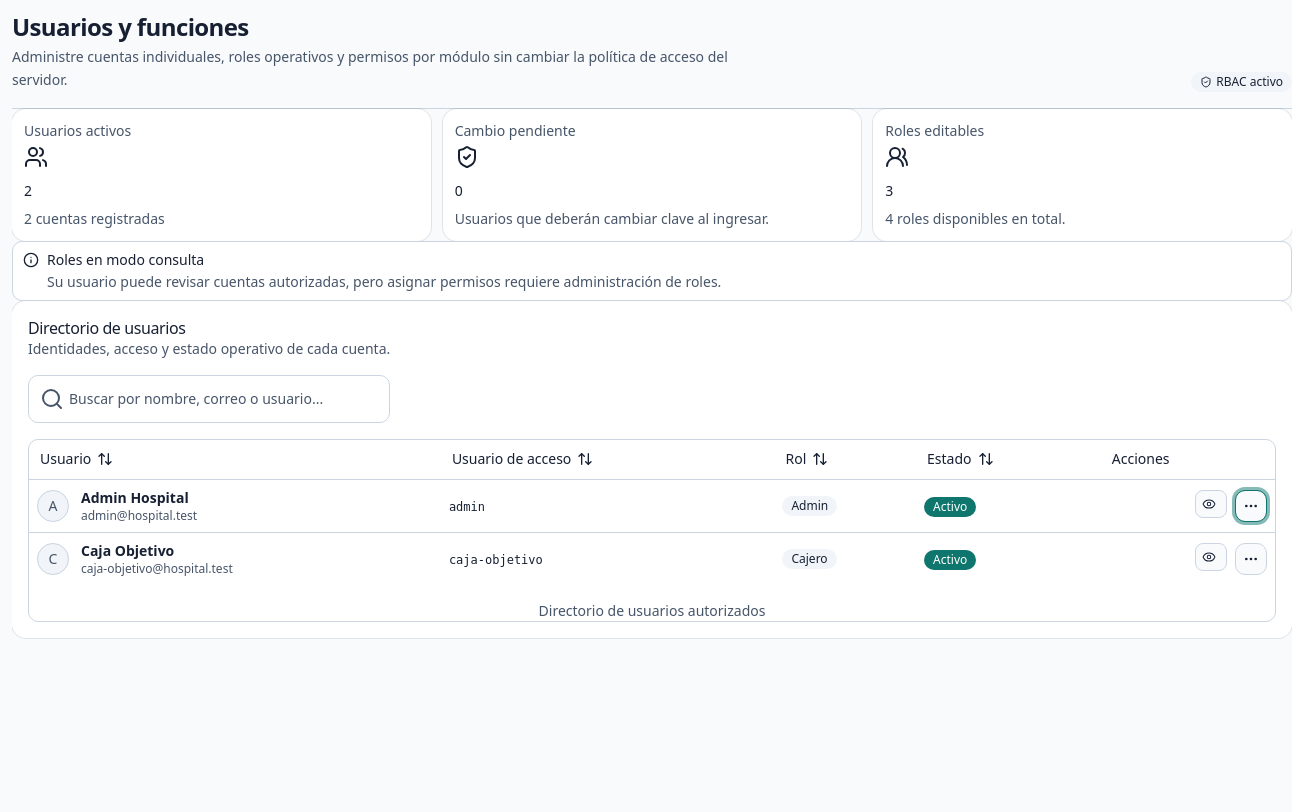
Test case: UsersView › does not expose self password reset or self deactivation actions
This screenshot has width=1292, height=812.
Click the button named "Acciones de usuario Admin Hospital". click: x=1251, y=506
box: [1235,490,1267,522]
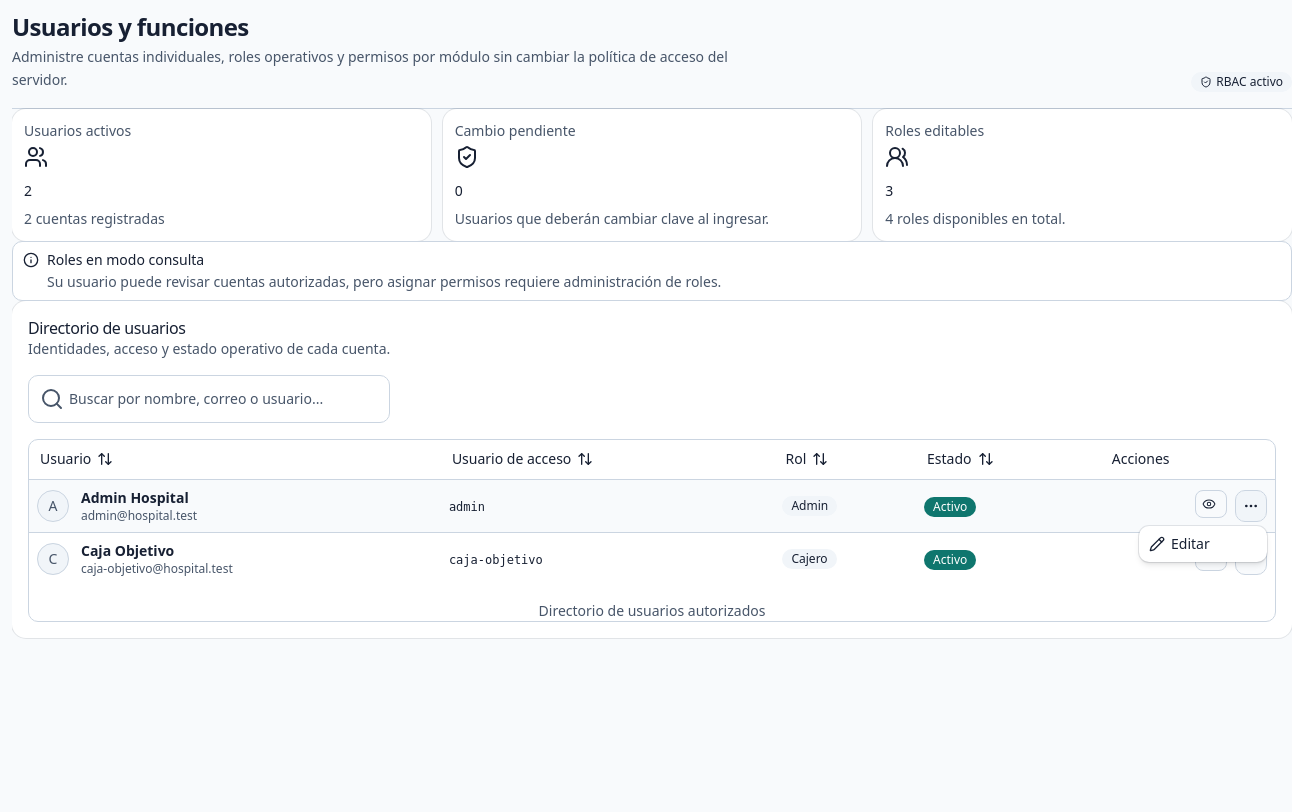
Check: the menu item "restablecer clave" is not shown
Check: the menu item "Editar" is shown, box [1149,534,1210,553]
Press Escape
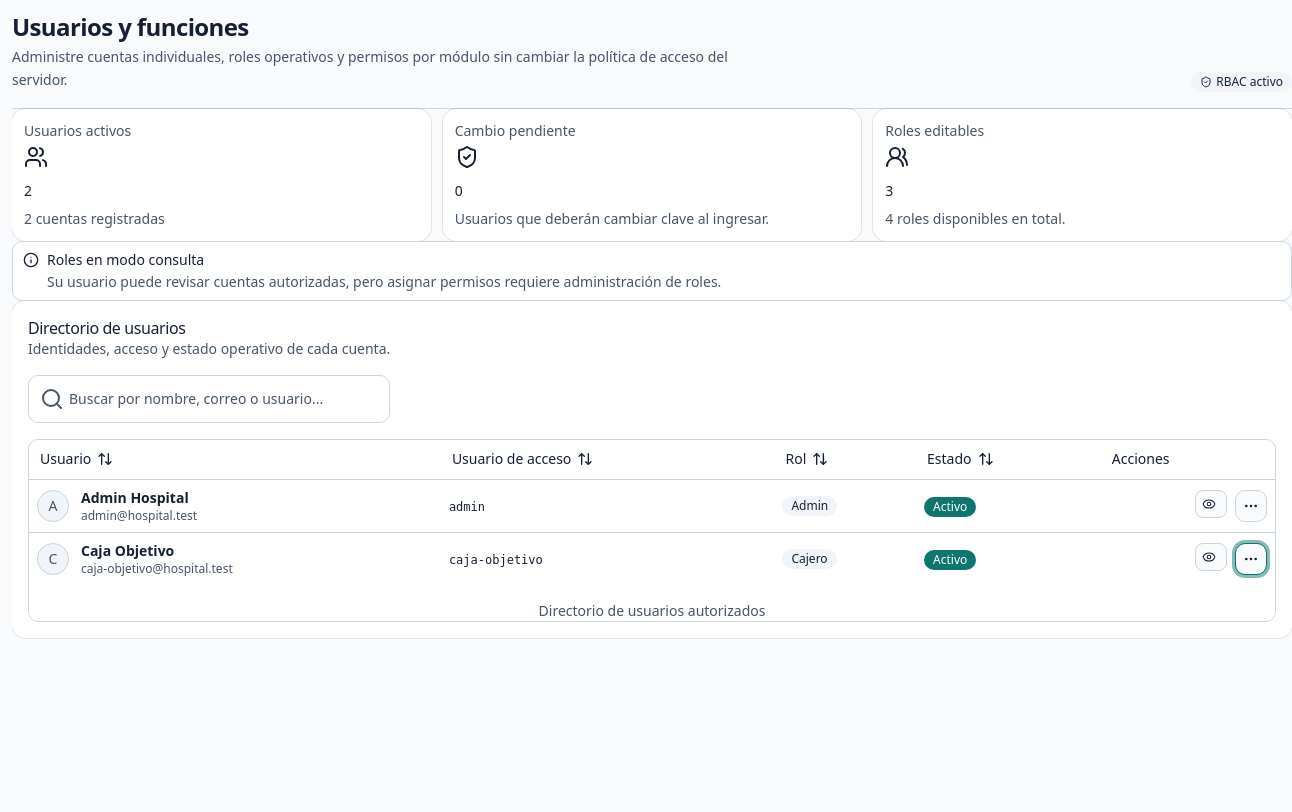
Click the button named "Acciones de usuario Caja Objetivo". click: x=1251, y=559
box: [1235,543,1267,575]
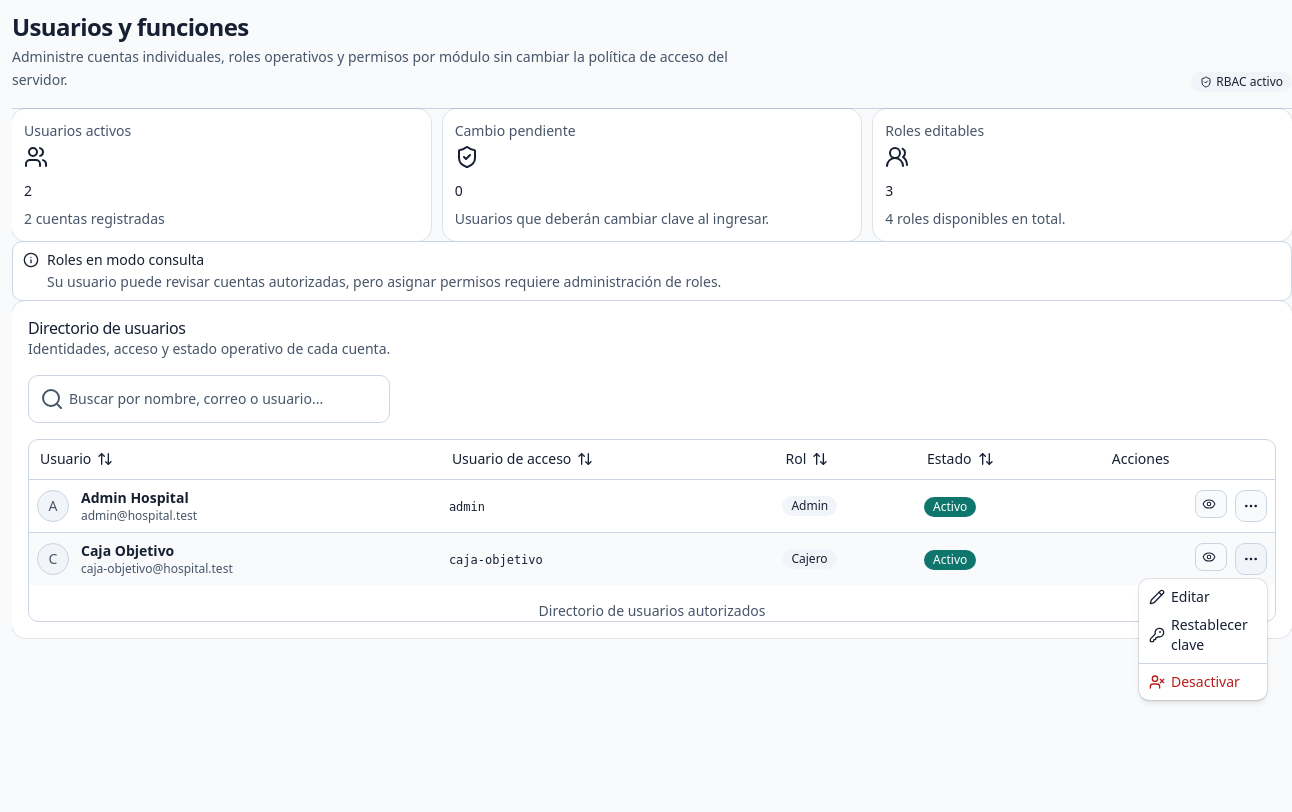
Check: the menu item "Editar" is shown, box [1149,587,1210,606]
Check: the menu item "Restablecer clave" is shown, box [1149,615,1248,654]
Check: the menu item "Desactivar" is shown, box [1149,672,1240,691]
